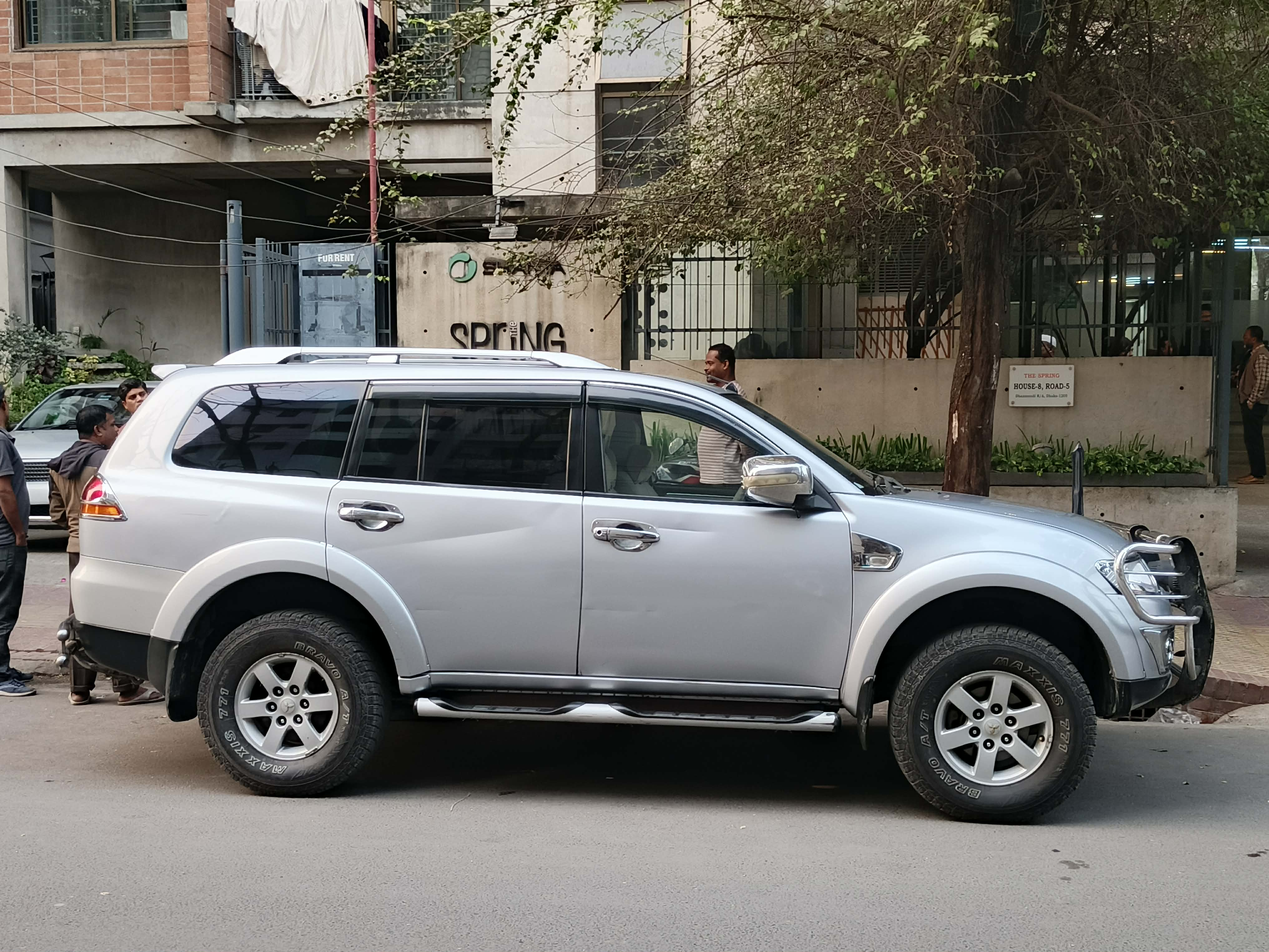private car: (47, 335, 1269, 813), (14, 333, 164, 574)
